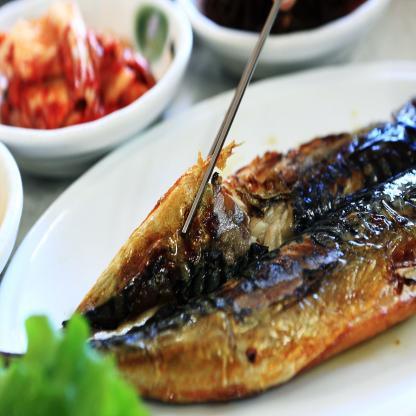Peixe: (84, 93, 416, 416)
